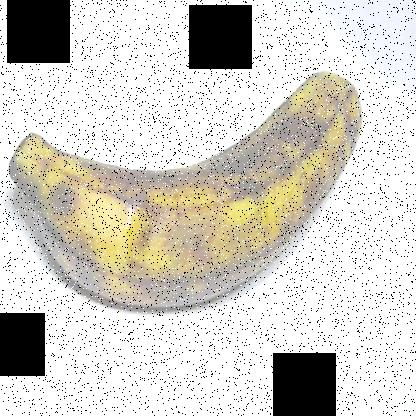overripe: (1, 43, 374, 334)
